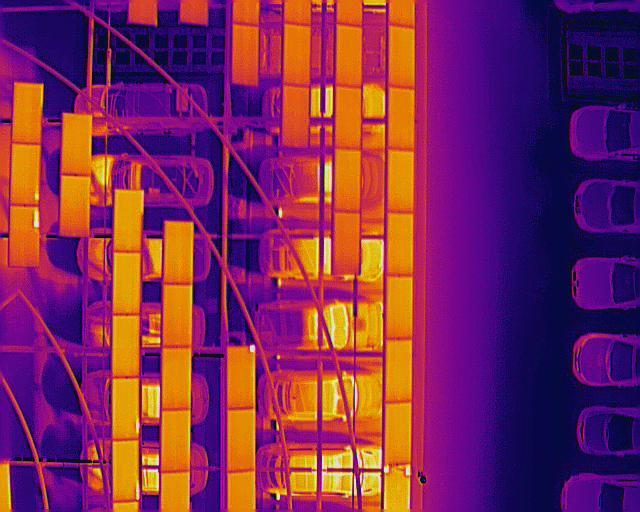Cell: (10, 143, 41, 207), (227, 346, 255, 409)
Cell-Multi: (384, 463, 412, 512)
No-Anomaly: (160, 346, 193, 412), (161, 283, 193, 348), (60, 174, 91, 239), (163, 221, 194, 285), (383, 338, 413, 404), (61, 114, 92, 176), (114, 190, 145, 251), (386, 211, 415, 276), (113, 252, 142, 316), (385, 275, 414, 339), (13, 84, 44, 143), (161, 409, 190, 472), (228, 408, 256, 473), (334, 210, 361, 276), (112, 315, 140, 378), (387, 149, 415, 212), (386, 88, 414, 150), (334, 148, 361, 212), (284, 22, 311, 86), (388, 24, 415, 88), (283, 85, 310, 148), (335, 85, 361, 150), (384, 403, 411, 464), (337, 23, 362, 88), (233, 22, 258, 85), (228, 470, 256, 512), (160, 473, 189, 512)
Unclassified: (9, 204, 40, 269), (113, 440, 140, 504), (113, 378, 140, 441)
